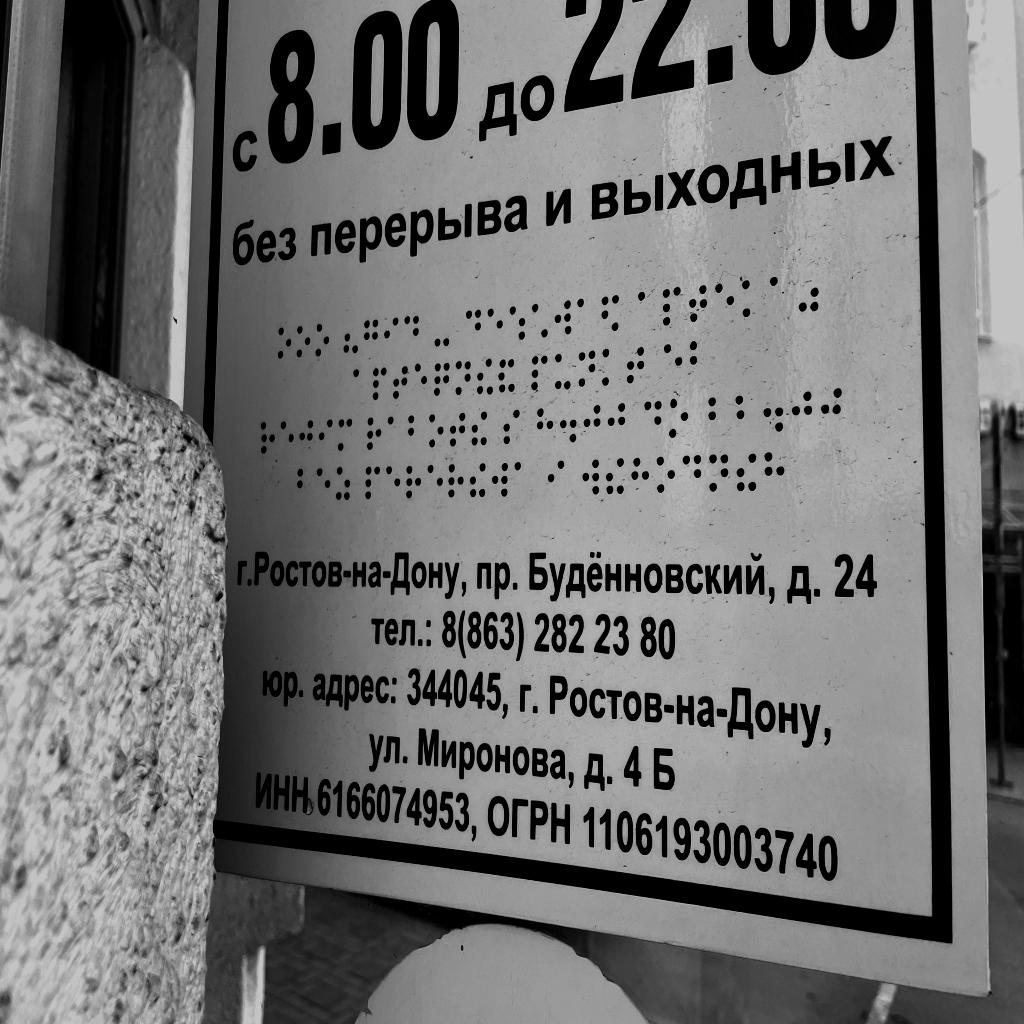_n: (708, 454, 731, 493), (578, 350, 596, 388), (455, 360, 471, 396)
_y: (554, 353, 572, 390)
a: (770, 276, 791, 315), (637, 290, 656, 327), (514, 461, 533, 496), (577, 298, 595, 333), (387, 416, 403, 449), (353, 369, 368, 402)
b: (408, 414, 424, 448), (298, 468, 313, 501)
ch: (434, 362, 450, 398)
d: (682, 454, 702, 495), (644, 400, 662, 439), (465, 307, 482, 345), (404, 314, 420, 348)
defis: (434, 316, 450, 349)
e: (715, 283, 736, 320), (488, 307, 505, 345), (427, 464, 443, 499), (280, 421, 295, 456), (415, 362, 429, 399), (386, 466, 401, 500), (317, 468, 332, 501)
g: (363, 318, 380, 353)
gh: (299, 420, 314, 454)
i: (548, 459, 565, 497), (384, 316, 400, 351), (319, 419, 333, 453)
iKratkoe: (498, 359, 515, 394)
ii: (736, 453, 758, 493), (606, 458, 625, 496), (476, 358, 494, 396), (469, 462, 486, 498), (471, 411, 488, 446)
k: (742, 279, 762, 319), (602, 347, 621, 387)
kavichki1: (343, 322, 358, 355)
kavichki2: (799, 272, 819, 312)
m: (338, 418, 352, 451)
o: (669, 398, 689, 438), (656, 456, 675, 493), (277, 325, 292, 360), (429, 414, 444, 448), (315, 323, 329, 358), (297, 326, 311, 359)
p: (662, 286, 681, 326), (531, 354, 548, 391), (365, 466, 381, 500), (373, 367, 387, 401)
r: (405, 465, 422, 499), (448, 463, 464, 498), (260, 421, 275, 455), (367, 417, 382, 451)
s: (503, 409, 520, 445)
sh: (509, 305, 526, 342)
t: (626, 346, 645, 384), (689, 284, 707, 323), (449, 412, 466, 448), (393, 366, 408, 400)
tochka: (763, 391, 784, 432), (560, 405, 576, 443)
v: (553, 300, 572, 336), (582, 459, 600, 496), (492, 462, 509, 497)
x: (764, 452, 787, 495), (631, 457, 650, 498)
ya: (601, 295, 620, 332)
yo: (532, 302, 549, 340)
z: (336, 466, 350, 501)
